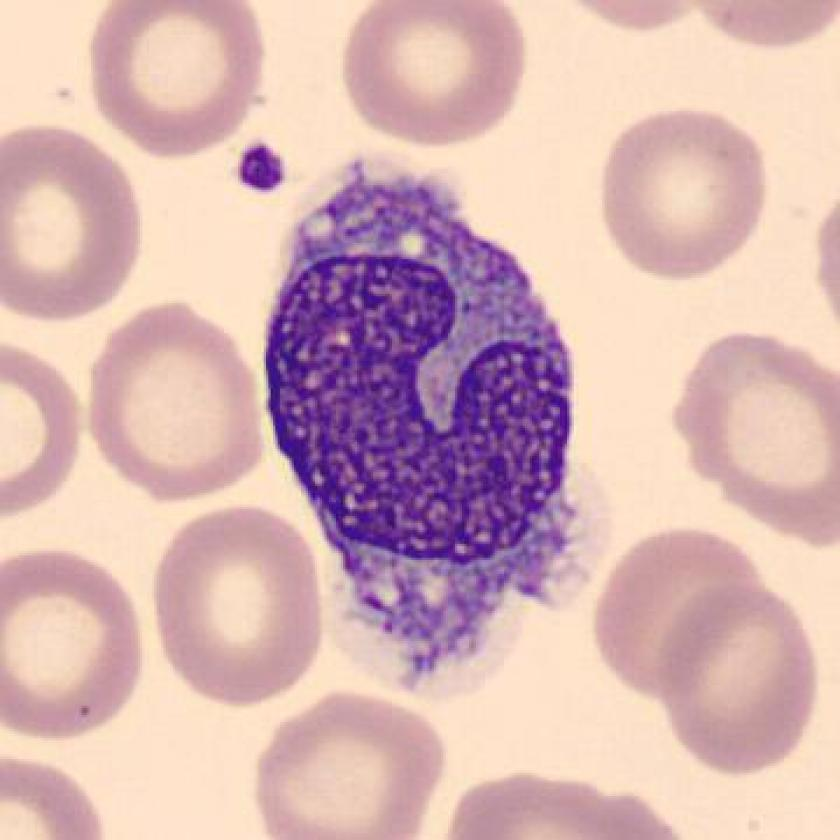monocyte: (237, 140, 645, 714)
